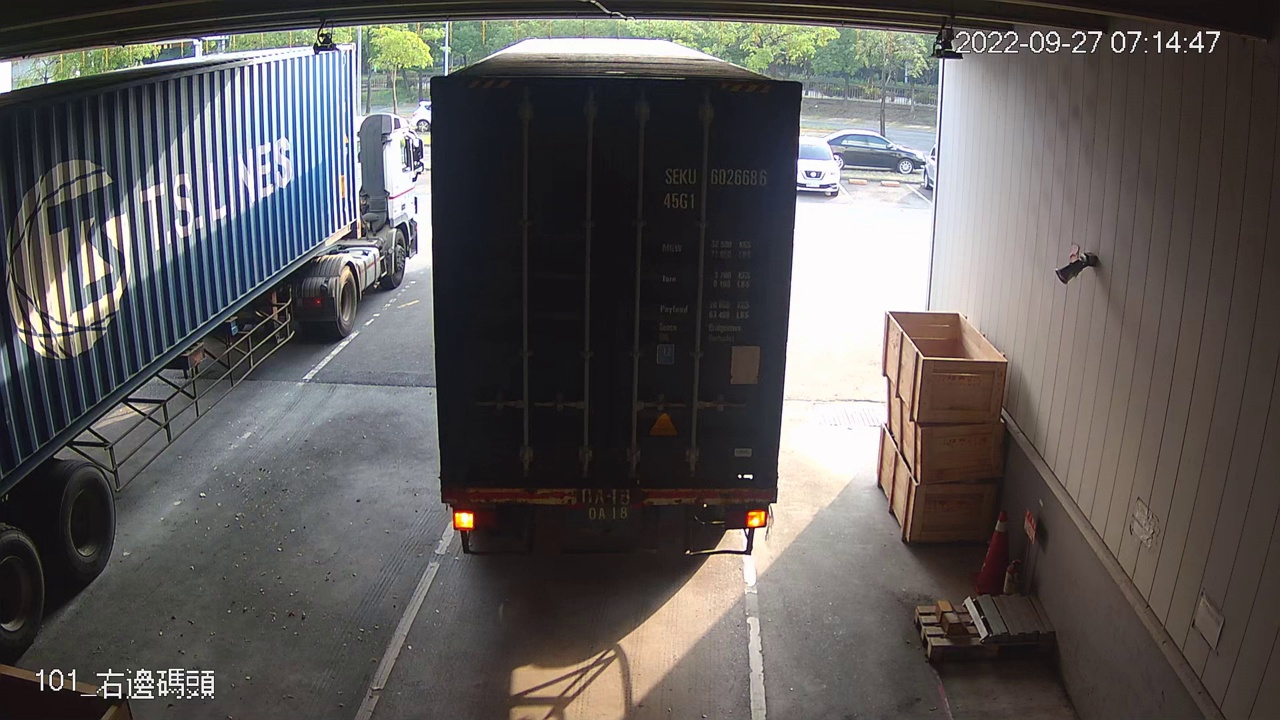container: (656, 161, 779, 217)
